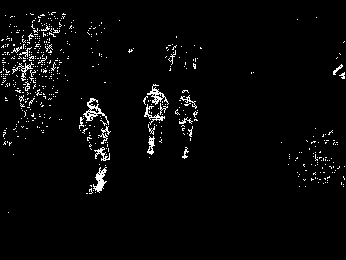person: (80, 97, 111, 194), (143, 82, 169, 155), (176, 88, 198, 158)
